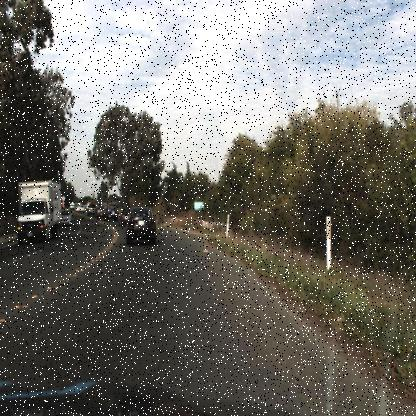car: (123, 205, 157, 250), (105, 200, 121, 226), (59, 206, 73, 232), (84, 195, 98, 219), (92, 202, 108, 223), (117, 204, 128, 230)
truck: (11, 172, 64, 250)
